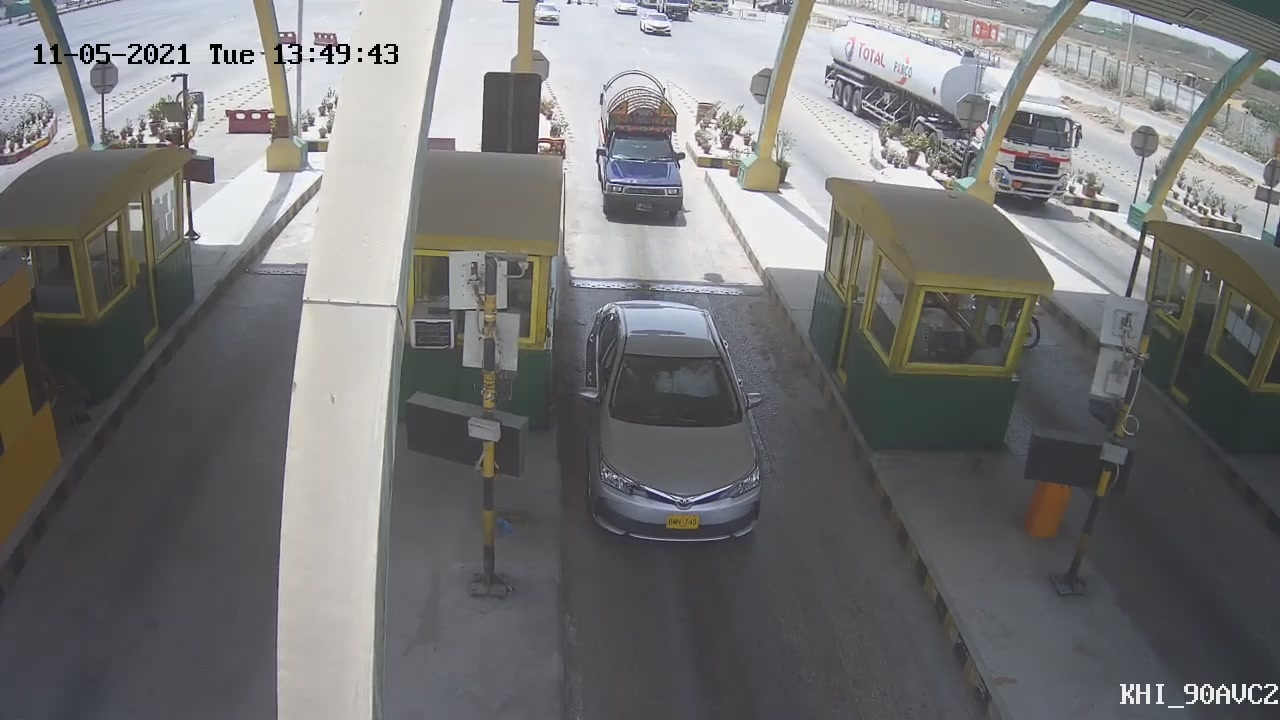F1: (579, 283, 782, 576), (591, 67, 689, 221)
